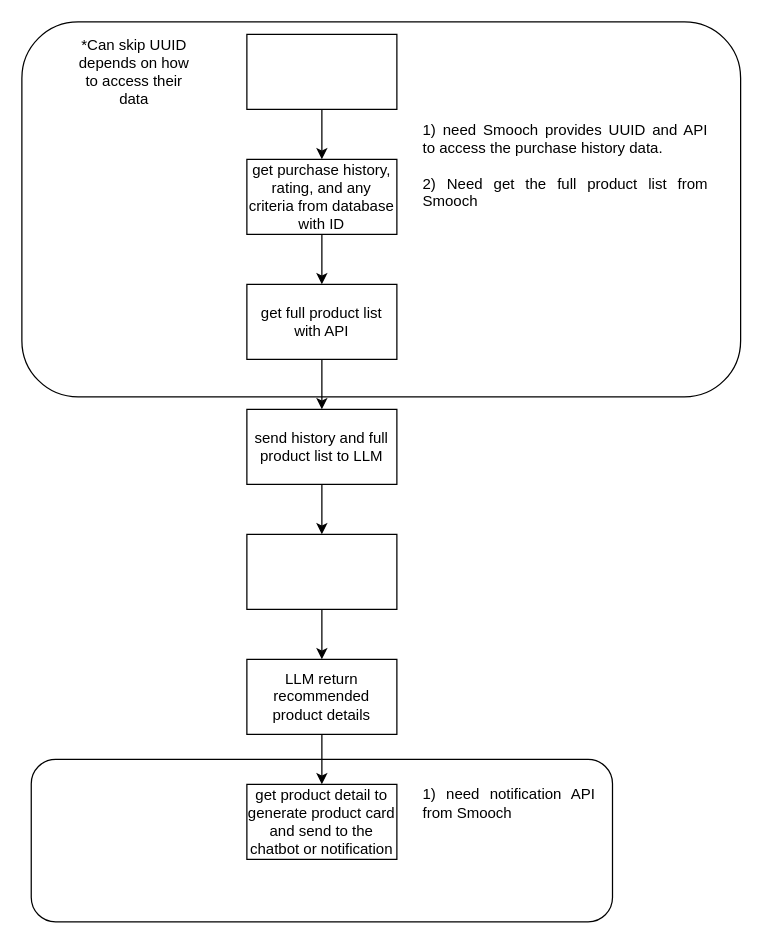
The diagram is 763 pixels wide and 944 high, and some of its shapes have lost their labels. Each missing label, with the box of its shape:
get User Unique ID: (246, 33, 397, 109)
send customize system prompt to LLM: (246, 533, 397, 609)
